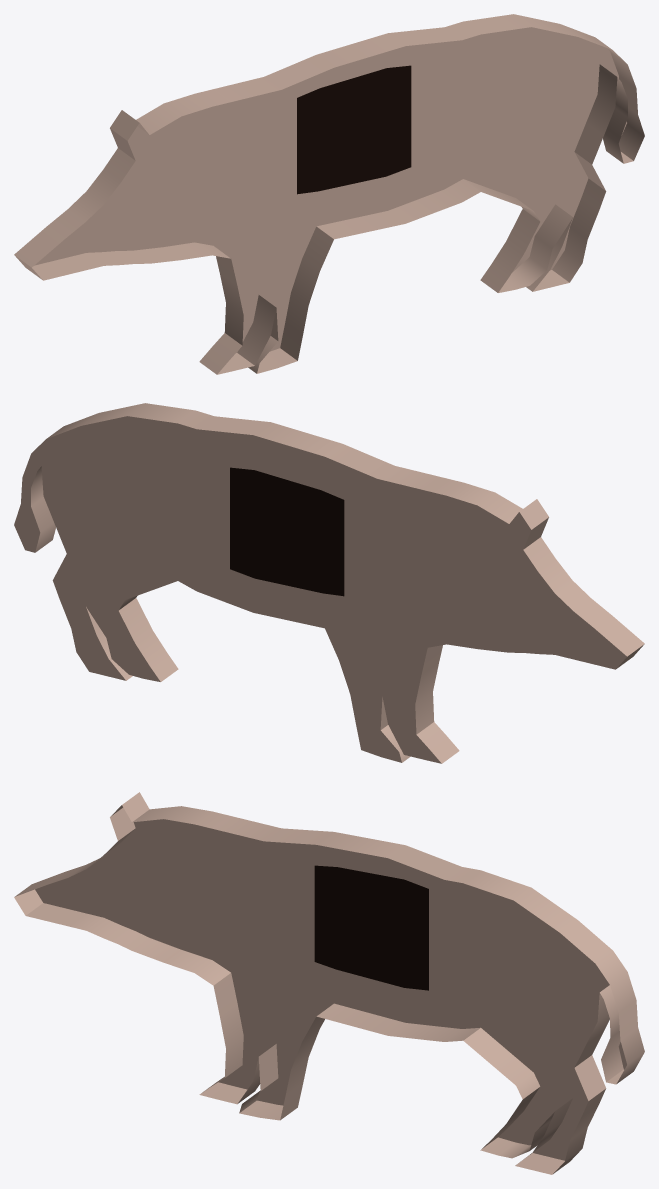
Rendered from M_BoarTarget.FBX.
The picture shows the model from 3 angles, top to bottom: view 1: azimuth 30°, elevation 25°; view 2: azimuth 150°, elevation 25°; view 3: azimuth 330°, elevation 25°; orthographic projection.
Visible parts, largest first — view 1: Plane002; view 2: Plane002; view 3: Plane002.
Boxes of the visible parts, box(x1,y1,x2,y2) form: Plane002: box(14, 14, 644, 374); Plane002: box(14, 403, 644, 763); Plane002: box(14, 792, 644, 1174).
Size of the model in its own units: 3.35 by 1.52 by 0.1678.
